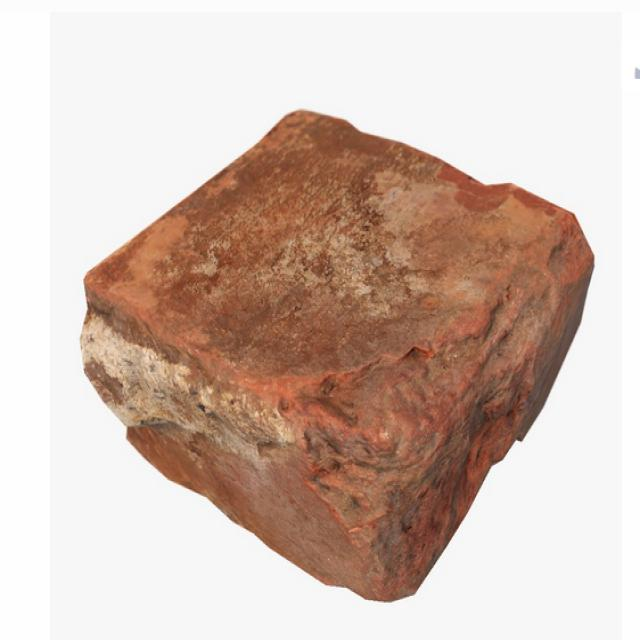bricks_ruin: (76, 109, 594, 603)
